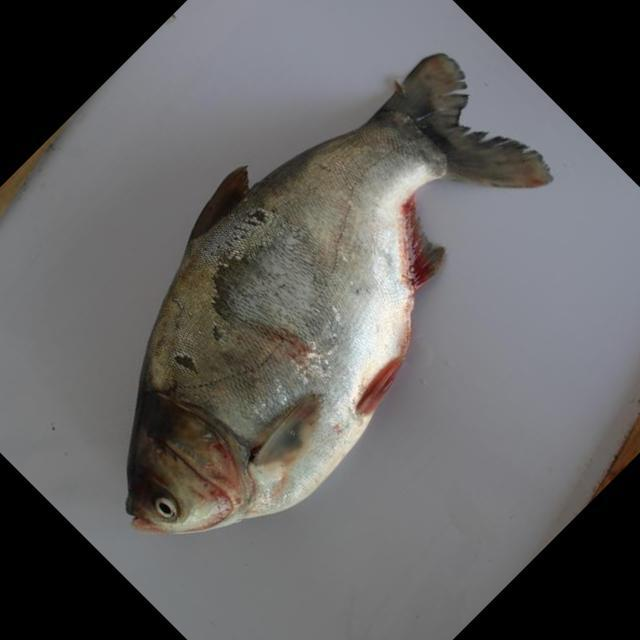SilverCarp: (94, 69, 500, 530)
